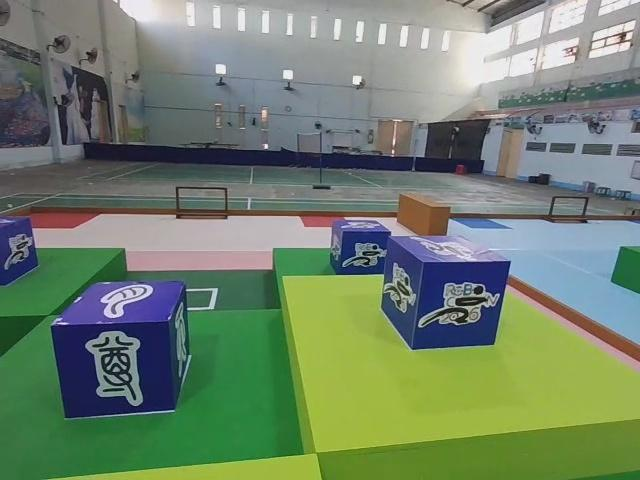R1 Blue: (380, 234, 509, 351), (330, 221, 392, 278), (0, 217, 38, 290)
R2 Fake Blue: (54, 281, 192, 423)
